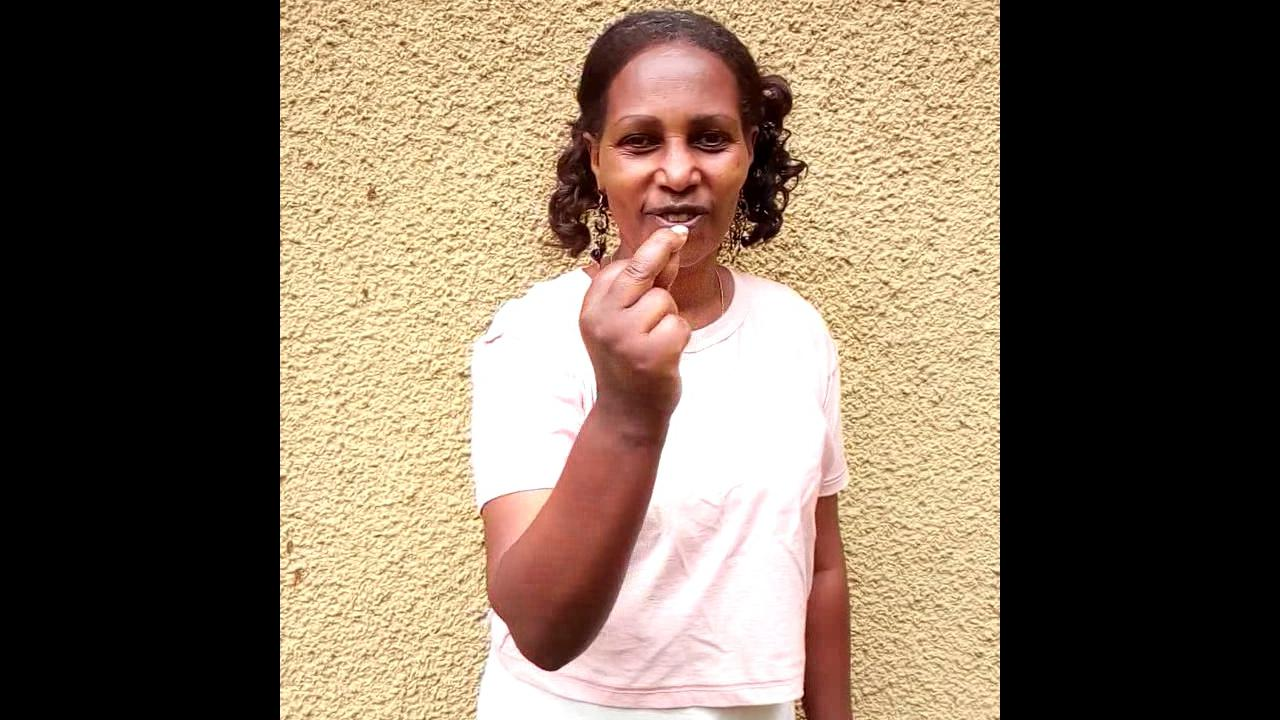CHE: (579, 229, 699, 514)
